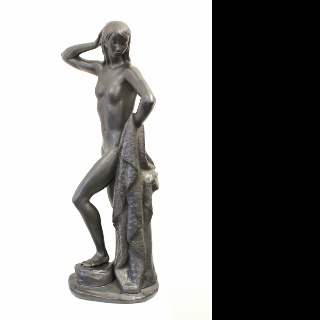without_mask: (108, 32, 128, 57)
